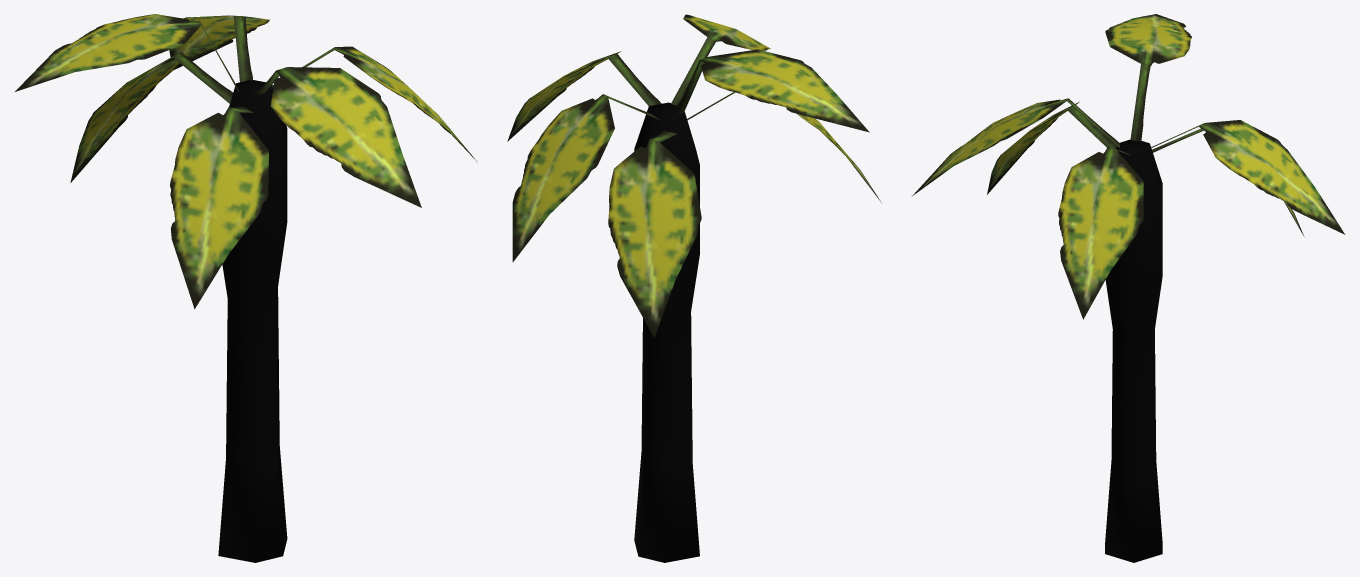
Rendered from tree_01d_ds.fbx.
The picture shows the model from 3 angles, left to right: view 1: azimuth 30°, elevation 25°; view 2: azimuth 150°, elevation 25°; view 3: azimuth 270°, elevation 25°; orthographic projection. The views are drawn at different scales.
Visible parts, largest first — view 1: tree_01d_ds; view 2: tree_01d_ds; view 3: tree_01d_ds.
Boxes of the visible parts, x1,y1,x2,y2 form: tree_01d_ds: (15, 14, 477, 562); tree_01d_ds: (507, 14, 881, 562); tree_01d_ds: (911, 14, 1345, 562).
Size of the model in its own units: 3.49 by 4.22 by 3.55.
